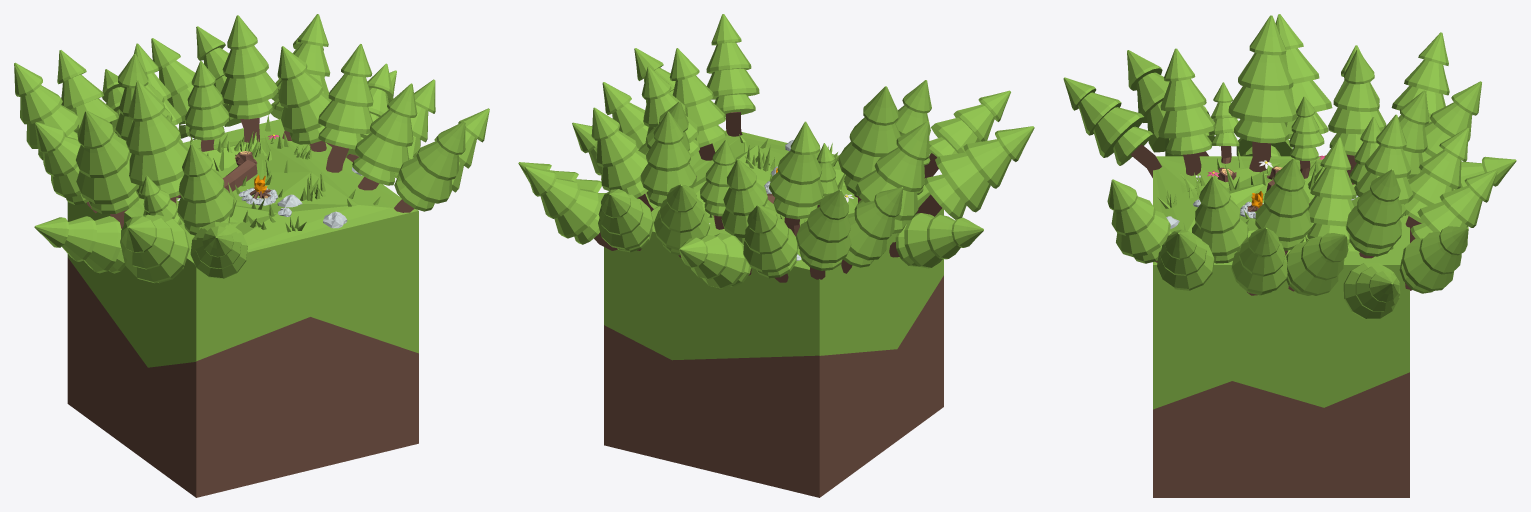
File: forest-block.glb
The picture shows the model from 3 angles, left to right: view 1: azimuth 30°, elevation 25°; view 2: azimuth 150°, elevation 25°; view 3: azimuth 270°, elevation 25°; orthographic projection. The views are drawn at different scales.
Visible parts, largest first — view 1: Node; view 2: Node; view 3: Node.
Boxes of the visible parts, box(x1,y1,x2,y2) form: Node: box(14, 14, 489, 497); Node: box(518, 14, 1034, 497); Node: box(1063, 14, 1516, 497).
Bounding box in the file's own units: 1.74 × 1.48 × 1.62.
